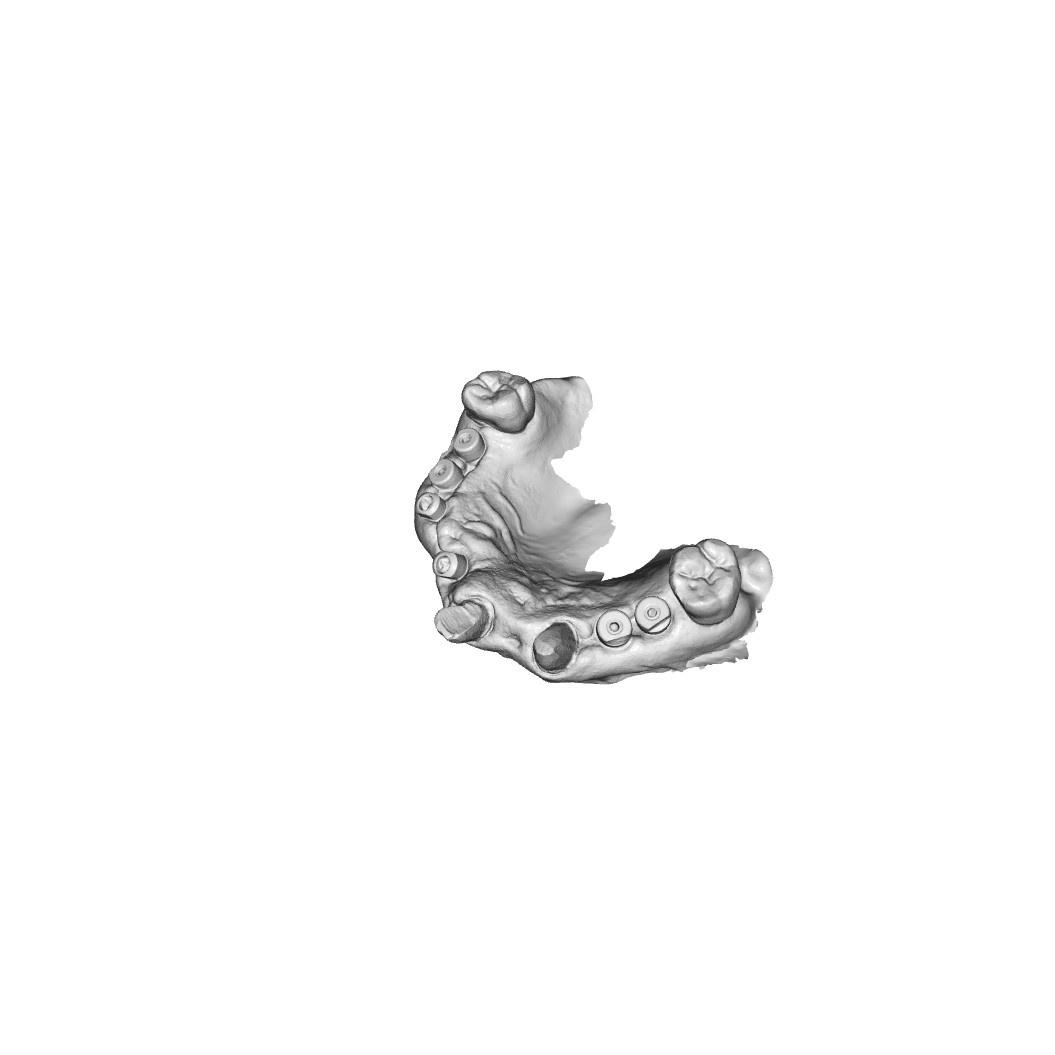crown: (434, 600, 489, 643), (533, 623, 574, 674)
implant: (636, 595, 673, 633), (430, 550, 467, 583), (597, 610, 631, 645), (415, 490, 450, 522), (431, 460, 463, 492), (455, 427, 486, 459)
molar: (667, 536, 740, 617), (460, 366, 532, 433)
